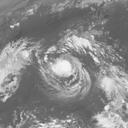cyclone: (41, 49, 90, 97)
